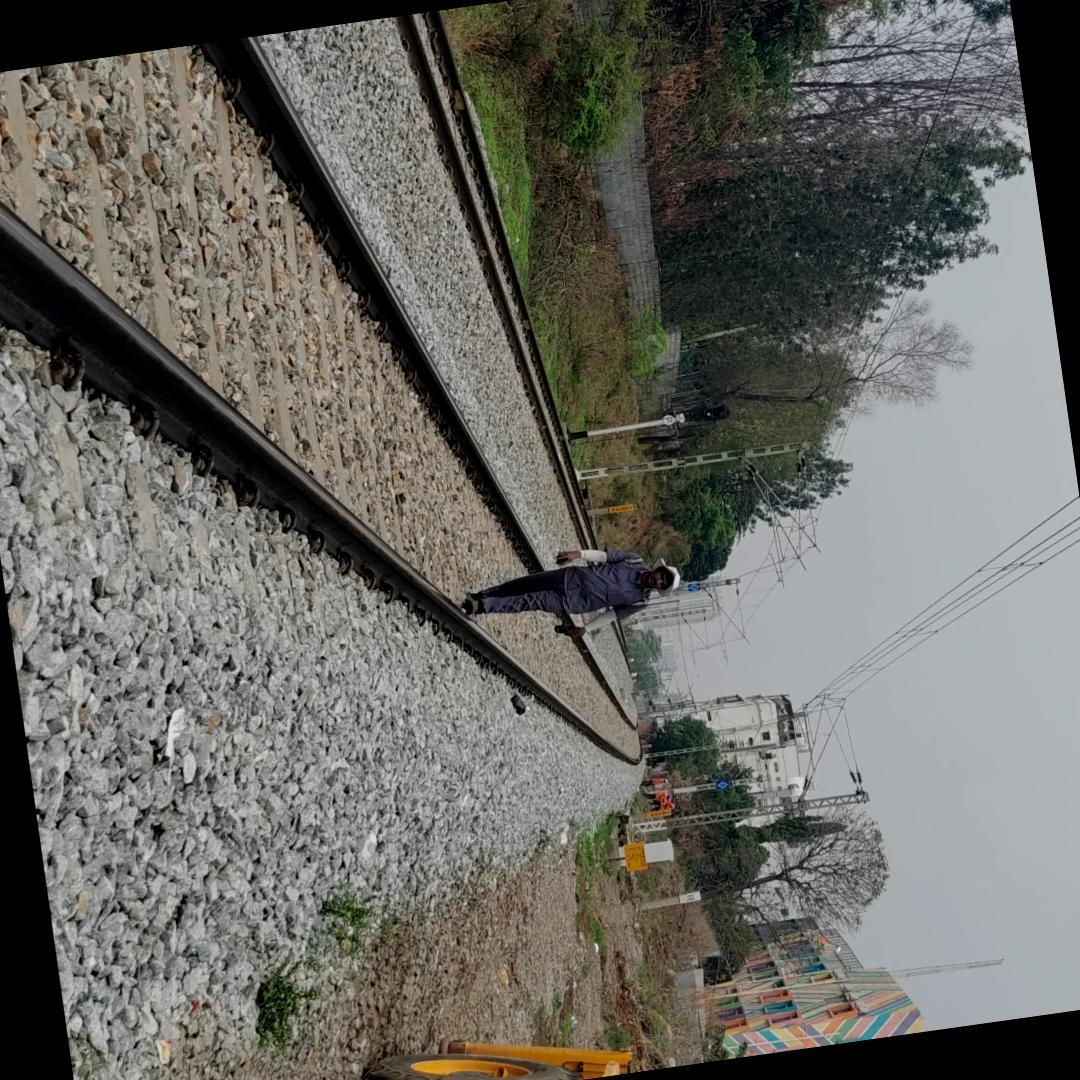standing: (451, 541, 681, 639), (632, 771, 681, 820)
track: (0, 32, 669, 773)
